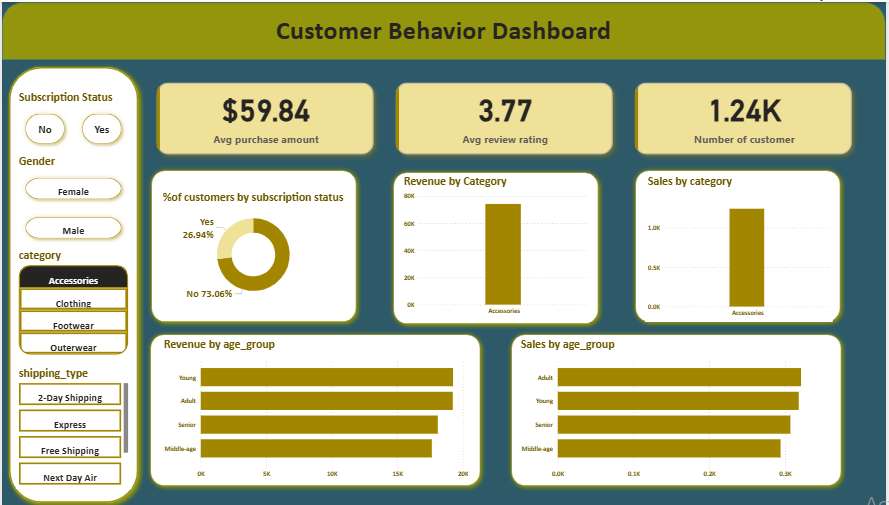

Layout of this report page (visuals, bound fields, positions):
{"tool":"powerbi","page":{"name":"Page 1","canvas":[1600,920],"ordinal":0},"visuals":[{"type":"cardVisual","fields":{"Data":["customer_behavior customer.Avd purchase amount","customer_behavior customer.Avg review rating","customer_behavior customer.Number of customer"]},"box":[259.6,125.5,1302.1,172.3],"z":0},{"type":"shape","box":[0,0,1600,105],"z":1000},{"type":"textbox","box":[159.6,16.8,1280.8,88.2],"z":2000},{"type":"shape","box":[1138.1,296.1,390.6,294],"z":3000},{"type":"shape","box":[699.4,298.2,390.6,294],"z":4000},{"type":"shape","box":[260.4,296.1,390.6,294],"z":5000},{"type":"donutChart","title":"%of customers by subscription status","fields":{"Y":["CountNonNull(customer_behavior customer.customer_id)"],"Category":["customer_behavior customer.subscription_status"]},"box":[285.6,340.2,338.1,207.9],"z":6000},{"type":"clusteredColumnChart","title":"Revenue by Category","fields":{"Category":["customer_behavior customer.category"],"Y":["Sum(customer_behavior customer.purchase_amount($))"]},"box":[722.3,310.8,344.4,264.6],"z":7000},{"type":"columnChart","title":"Sales by category","fields":{"Category":["customer_behavior customer.category"],"Y":["CountNonNull(customer_behavior customer.customer_id)"]},"box":[1163.8,310.6,340.4,268.1],"z":8000},{"type":"shape","box":[0,104.3,259.6,814.9],"z":9000},{"type":"advancedSlicerVisual","title":"Subscription Status","fields":{"Values":["customer_behavior customer.subscription_status"]},"box":[25.5,159.6,208.5,114.9],"z":10000},{"type":"advancedSlicerVisual","title":"Gender","fields":{"Values":["customer_behavior customer.gender"]},"box":[25.5,274.5,208.5,170.2],"z":11000},{"type":"advancedSlicerVisual","fields":{"Values":["customer_behavior customer.category"]},"box":[25.5,444.7,208.5,200],"z":12000},{"type":"advancedSlicerVisual","fields":{"Values":["customer_behavior customer.shipping_type"]},"box":[25.5,659.6,208.5,223.4],"z":13000},{"type":"shape","box":[912.8,591.5,617,293.6],"z":14000},{"type":"shape","box":[259.6,591.5,617,293.6],"z":15000},{"type":"clusteredBarChart","title":"Revenue by age_group","fields":{"Y":["Sum(customer_behavior customer.purchase_amount($))"],"Category":["customer_behavior customer.age_group"]},"box":[287.2,606.4,561.7,263.8],"z":16000},{"type":"clusteredBarChart","title":"Sales by age_group","fields":{"Category":["customer_behavior customer.age_group"],"Y":["CountNonNull(customer_behavior customer.customer_id)"]},"box":[934,606.4,572.3,263.8],"z":17000}]}

Visuals, with their boxes in screenshot pixels (x1, y1, x2, y2), scaled from the page's 1600x920 canvas onto the 889x505 screenshot:
cardVisual - customer_behavior customer.Avd purchase amount x customer_behavior customer.Avg review rating: 144 69 868 163
shape: 0 0 888 58
textbox: 89 9 800 58
shape: 632 163 849 324
shape: 389 164 606 325
shape: 145 163 362 324
"%of customers by subscription status" donutChart: 159 187 347 301
"Revenue by Category" clusteredColumnChart: 401 171 593 316
"Sales by category" columnChart: 647 170 836 318
shape: 0 57 144 504
"Subscription Status" advancedSlicerVisual: 14 88 130 151
"Gender" advancedSlicerVisual: 14 151 130 244
advancedSlicerVisual - customer_behavior customer.category: 14 244 130 354
advancedSlicerVisual - customer_behavior customer.shipping_type: 14 362 130 485
shape: 507 325 850 486
shape: 144 325 487 486
"Revenue by age_group" clusteredBarChart: 160 333 472 478
"Sales by age_group" clusteredBarChart: 519 333 837 478
